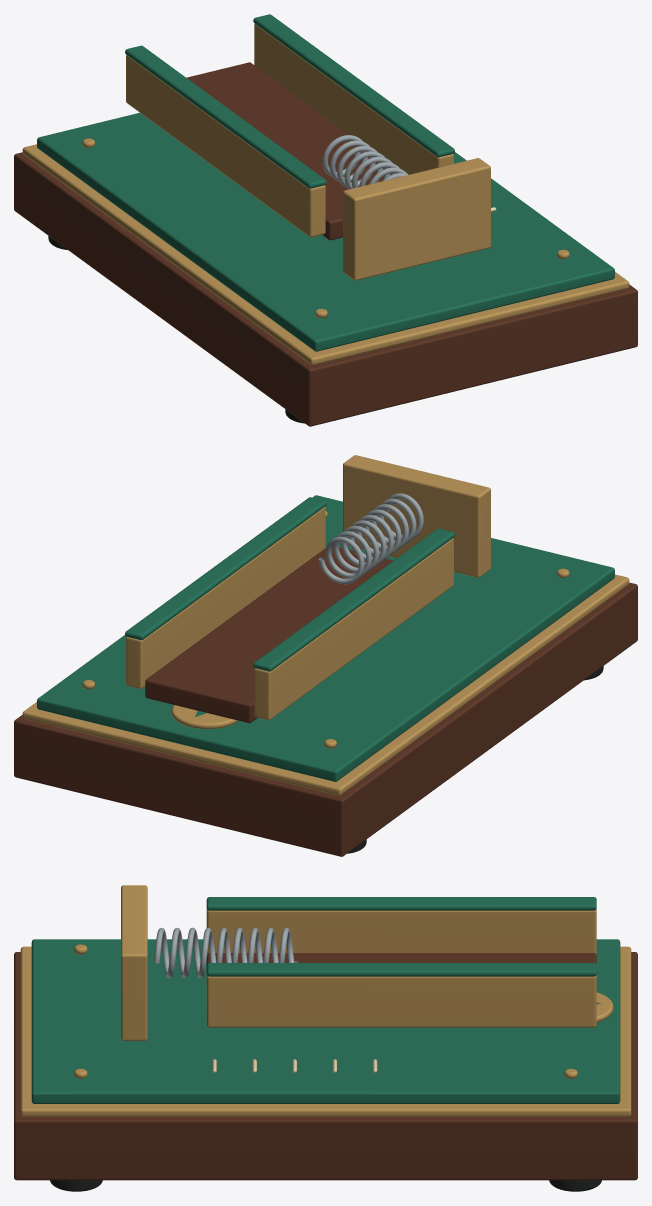
Rendered from PinLauncher.fbx.
3 renders of one model, top to bottom at view 1: azimuth 30°, elevation 25°; view 2: azimuth 150°, elevation 25°; view 3: azimuth 270°, elevation 25°, orthographic. The views are drawn at different scales.
Parts seen in each view (by area): view 1: Enamel_Deck, Mahogany_Platform, Spring_Backstop, Tray_Rail_-0.035, Brass_Plinth, Open_Tray_Floor, Tray_Rail_0.035, Rail_Enamel_-0.035, Rail_Enamel_0.035, Exposed_Compression_Spring; view 2: Enamel_Deck, Mahogany_Platform, Open_Tray_Floor, Spring_Backstop, Tray_Rail_-0.035, Brass_Plinth, Tray_Rail_0.035, Exposed_Compression_Spring, Rail_Enamel_-0.035, Rail_Enamel_0.035, Toy_Badge; view 3: Enamel_Deck, Mahogany_Platform, Tray_Rail_0.035, Tray_Rail_-0.035, Brass_Plinth, Rail_Enamel_-0.035, Rail_Enamel_0.035, Spring_Backstop, Exposed_Compression_Spring, Open_Tray_Floor, Foot_0.073_-0.112, Foot_0.073_0.112.
Boxes of the visible parts, x1=… form: Enamel_Deck: x1=37, y1=112, x2=614, y2=351; Mahogany_Platform: x1=14, y1=152, x2=637, y2=426; Spring_Backstop: x1=343, y1=158, x2=490, y2=280; Tray_Rail_-0.035: x1=126, y1=55, x2=325, y2=237; Brass_Plinth: x1=22, y1=144, x2=629, y2=365; Open_Tray_Floor: x1=186, y1=62, x2=391, y2=240; Tray_Rail_0.035: x1=254, y1=24, x2=453, y2=174; Rail_Enamel_-0.035: x1=125, y1=45, x2=326, y2=188; Rail_Enamel_0.035: x1=253, y1=14, x2=454, y2=157; Exposed_Compression_Spring: x1=322, y1=135, x2=408, y2=189; Enamel_Deck: x1=37, y1=495, x2=614, y2=781; Mahogany_Platform: x1=14, y1=582, x2=637, y2=856; Open_Tray_Floor: x1=145, y1=546, x2=393, y2=723; Spring_Backstop: x1=343, y1=455, x2=490, y2=577; Tray_Rail_-0.035: x1=254, y1=538, x2=453, y2=720; Brass_Plinth: x1=22, y1=574, x2=629, y2=795; Tray_Rail_0.035: x1=126, y1=506, x2=325, y2=688; Exposed_Compression_Spring: x1=318, y1=493, x2=423, y2=584; Rail_Enamel_-0.035: x1=253, y1=528, x2=454, y2=671; Rail_Enamel_0.035: x1=125, y1=497, x2=326, y2=640; Toy_Badge: x1=171, y1=705, x2=238, y2=728; Enamel_Deck: x1=31, y1=939, x2=620, y2=1103; Mahogany_Platform: x1=14, y1=952, x2=637, y2=1180; Tray_Rail_0.035: x1=206, y1=974, x2=596, y2=1027; Tray_Rail_-0.035: x1=206, y1=908, x2=596, y2=954; Brass_Plinth: x1=20, y1=946, x2=631, y2=1116; Rail_Enamel_-0.035: x1=206, y1=897, x2=596, y2=910; Rail_Enamel_0.035: x1=206, y1=963, x2=596, y2=976; Spring_Backstop: x1=121, y1=885, x2=147, y2=1040; Exposed_Compression_Spring: x1=153, y1=927, x2=299, y2=978; Open_Tray_Floor: x1=206, y1=953, x2=596, y2=964; Foot_0.073_-0.112: x1=50, y1=1180, x2=102, y2=1191; Foot_0.073_0.112: x1=549, y1=1180, x2=601, y2=1191.
Size of the model in its own units: 18 by 9.68 by 28.
